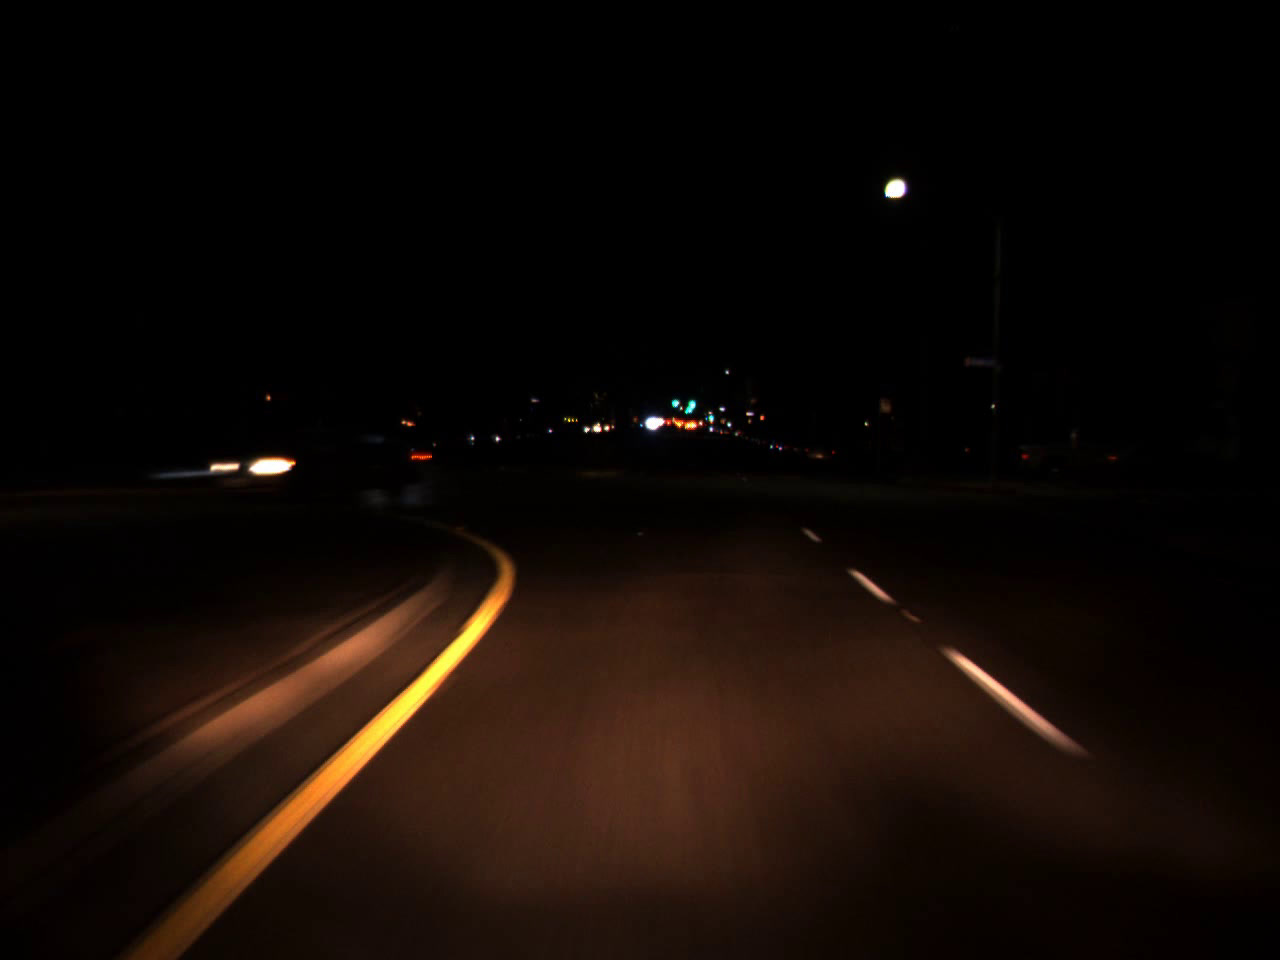go: (684, 388, 698, 412), (668, 386, 680, 410), (706, 403, 715, 424)
